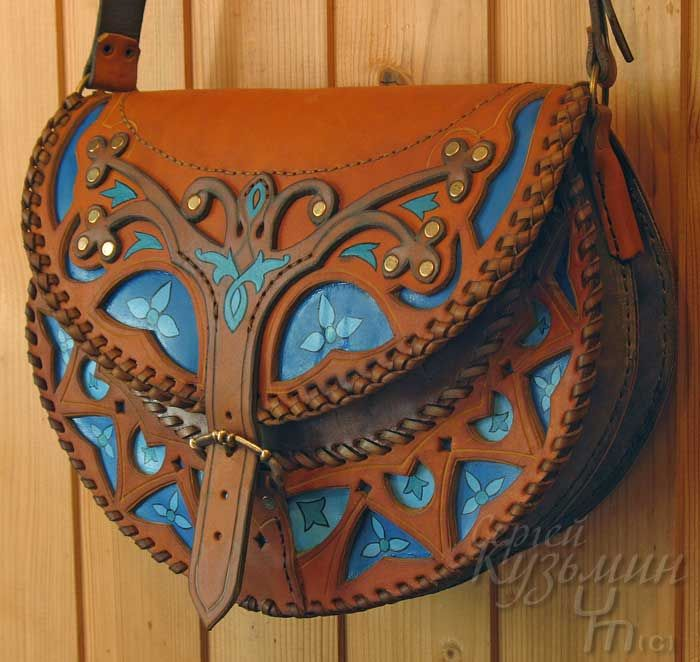cuero: (18, 34, 673, 630)
